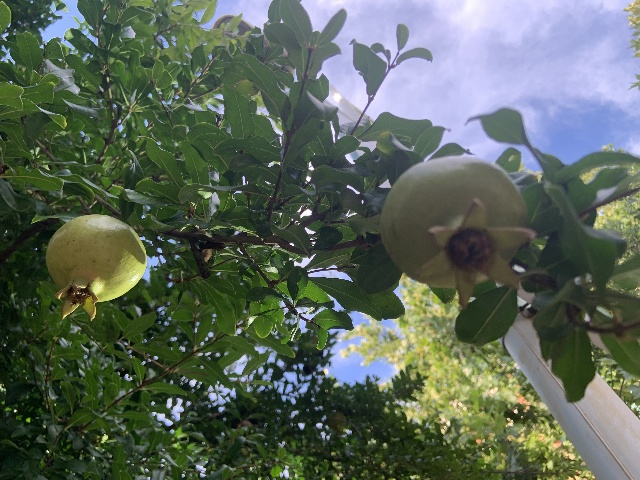mid-growth: (379, 153, 536, 313), (45, 213, 146, 321)
